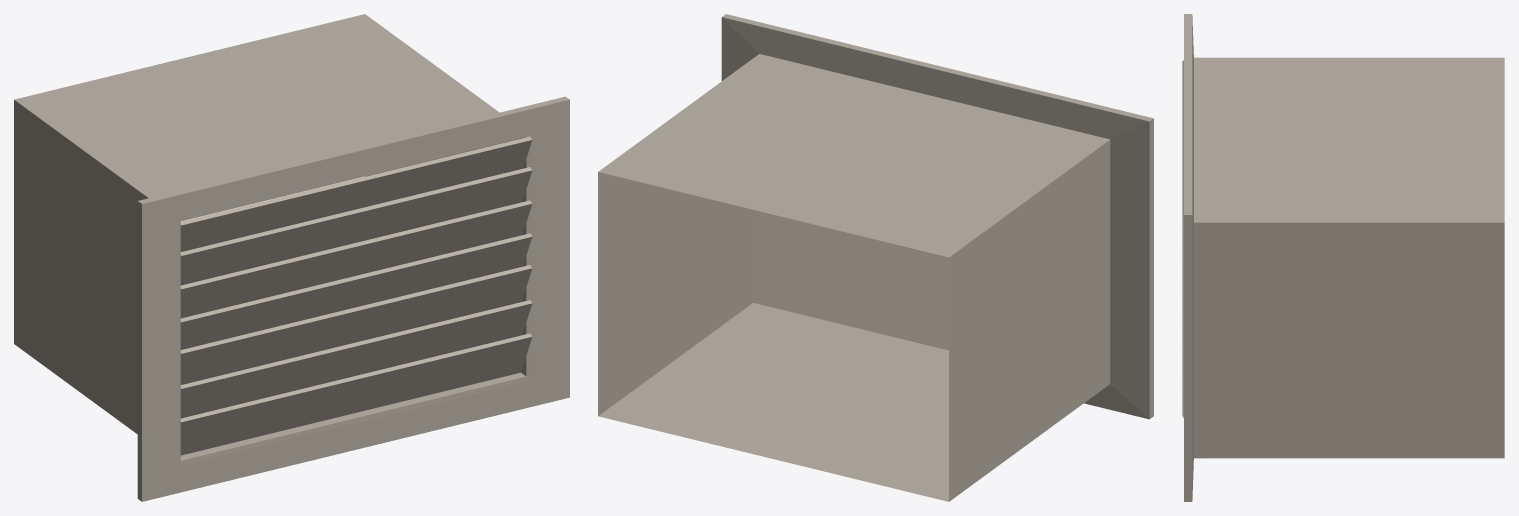
The model's file is SM_Airing_01.fbx.
3 renders of one model, left to right at view 1: azimuth 30°, elevation 25°; view 2: azimuth 150°, elevation 25°; view 3: azimuth 270°, elevation 25°, orthographic. The views are drawn at different scales.
Parts seen in each view (by area): view 1: SM_Airing_01; view 2: SM_Airing_01; view 3: SM_Airing_01.
Boxes of the visible parts, <box> form: SM_Airing_01: <box>14,14,569,501</box>; SM_Airing_01: <box>598,14,1153,501</box>; SM_Airing_01: <box>1182,14,1504,501</box>.
Size of the model in its own units: 60.94 by 40.55 by 41.3.
